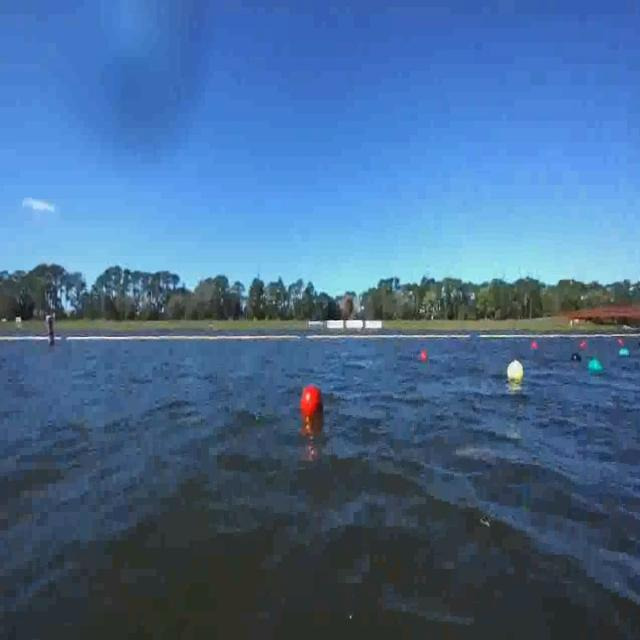black-buoy: (571, 352, 582, 362)
green-buoy: (588, 359, 602, 374), (620, 349, 630, 358)
red-buoy: (300, 387, 321, 422), (420, 350, 428, 363), (531, 343, 538, 351), (579, 342, 586, 350)
yellow-buoy: (506, 359, 522, 381)
